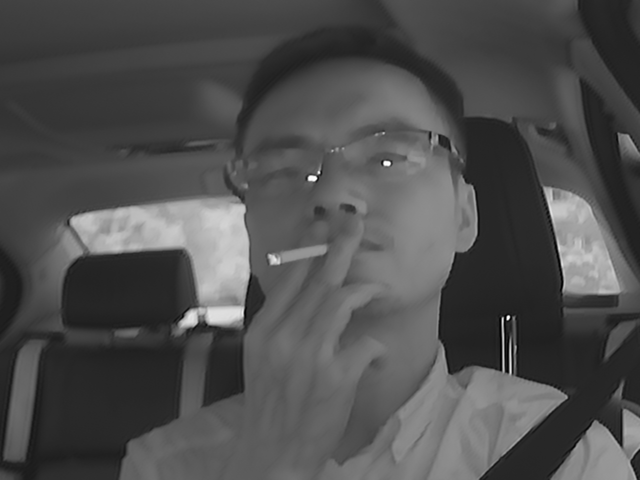hand: (248, 222, 387, 377)
